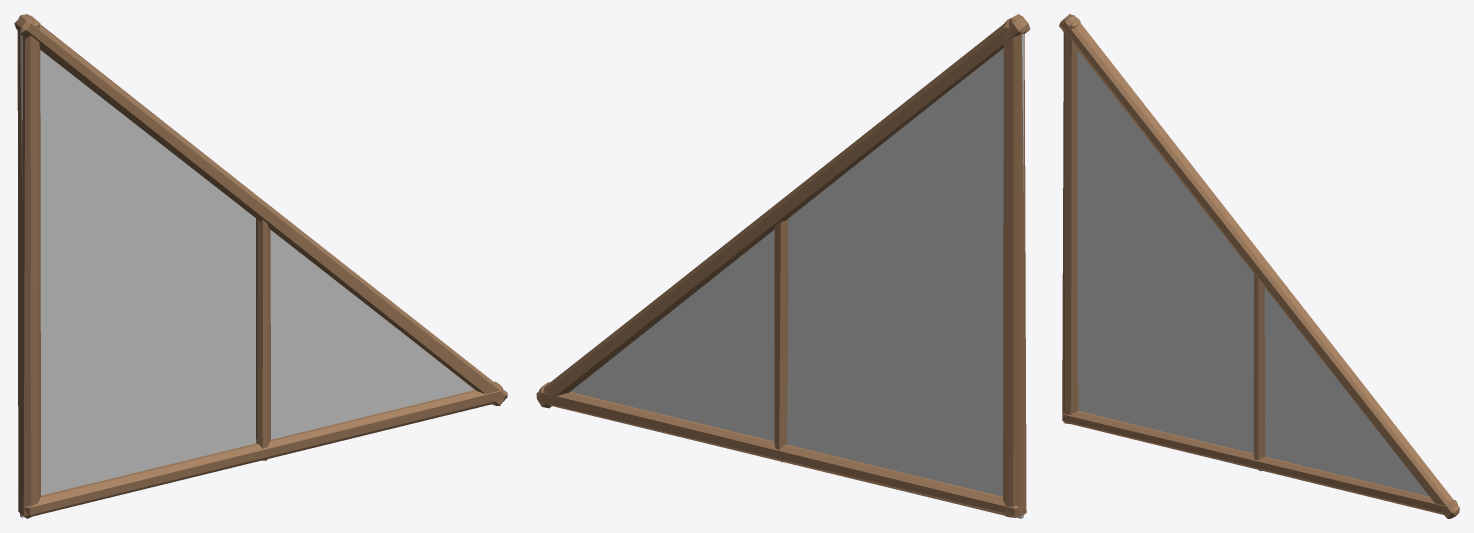
File: PKX_Veranda_Cheek.fbx
The picture shows the model from 3 angles, left to right: view 1: azimuth 30°, elevation 25°; view 2: azimuth 150°, elevation 25°; view 3: azimuth 330°, elevation 25°; orthographic projection. The views are drawn at different scales.
Visible parts, largest first — view 1: PKX_Veranda_Cheek; view 2: PKX_Veranda_Cheek; view 3: PKX_Veranda_Cheek.
Part boxes in pixels (box(x1,y1,x2,y2)): PKX_Veranda_Cheek: box(14, 14, 507, 518); PKX_Veranda_Cheek: box(536, 14, 1030, 518); PKX_Veranda_Cheek: box(1059, 14, 1459, 518).
Size of the model in its own units: 152 by 149 by 5.9.
